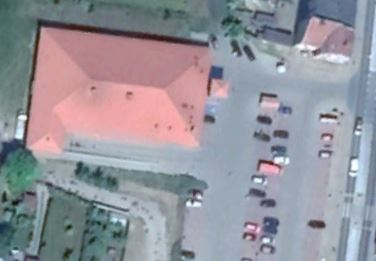shopping_center: (18, 20, 221, 165)
